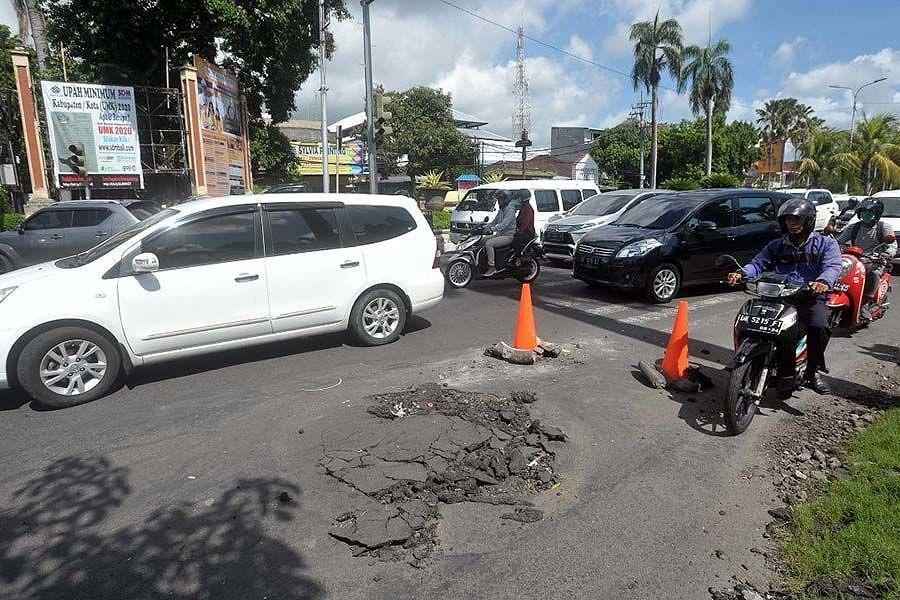Pothole: (329, 342, 594, 575)
